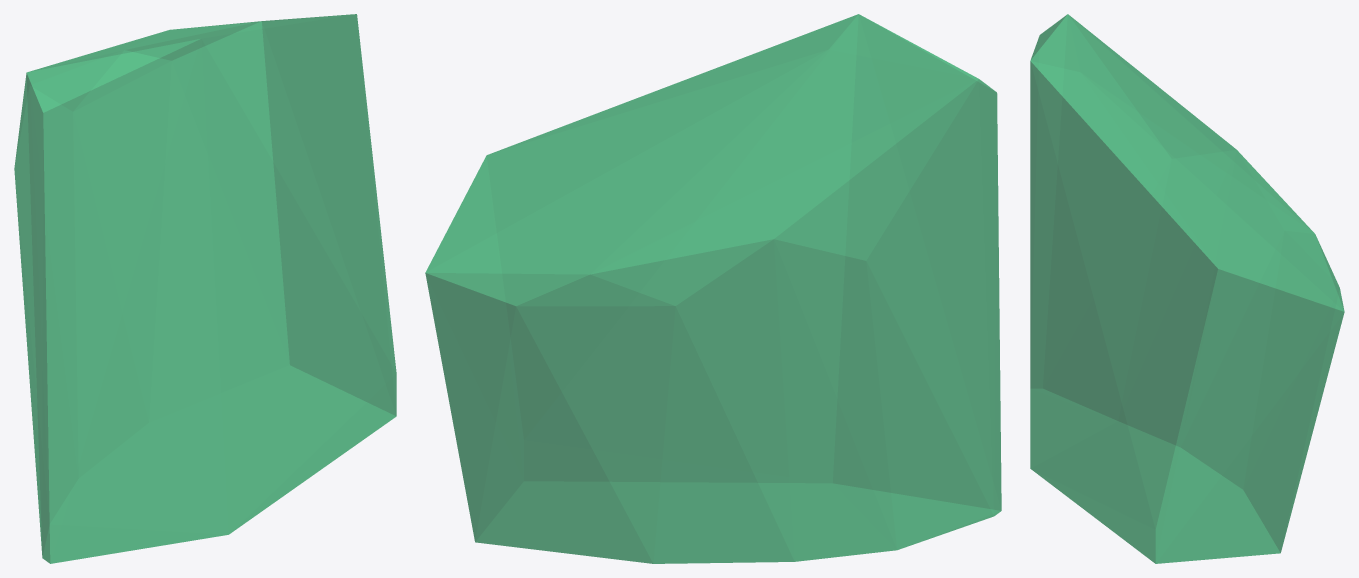
3 views of the same model, side by side, from view 1: azimuth 30°, elevation 25°; view 2: azimuth 150°, elevation 25°; view 3: azimuth 270°, elevation 25° (orthographic). The views are drawn at different scales.
Visible parts, largest first — view 1: Shape_IndexedFaceSet.035_Shape_IndexedFaceSet.2000; view 2: Shape_IndexedFaceSet.035_Shape_IndexedFaceSet.2000; view 3: Shape_IndexedFaceSet.035_Shape_IndexedFaceSet.2000.
Part boxes in pixels (x1,y1,x2,y2): Shape_IndexedFaceSet.035_Shape_IndexedFaceSet.2000: (14,14,396,563); Shape_IndexedFaceSet.035_Shape_IndexedFaceSet.2000: (425,14,1001,563); Shape_IndexedFaceSet.035_Shape_IndexedFaceSet.2000: (1030,14,1344,563).
Bounding box in the file's own units: 0.1653 × 0.1861 × 0.1334.
